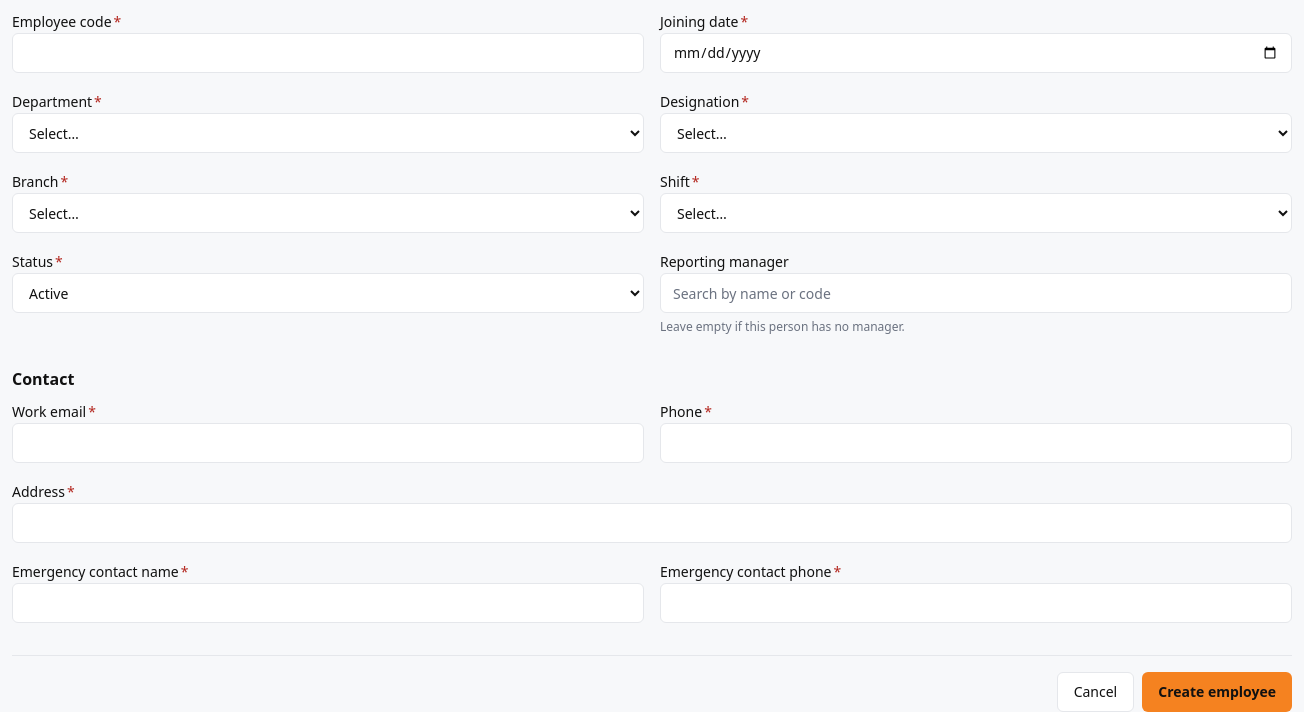
Scenario: EmployeeForm › shows validation messages and does not submit an empty form
(page scrolled)
Click the button "Create employee".
click(1217, 692)  # box [1142,672,1292,711]
(page scrolled)
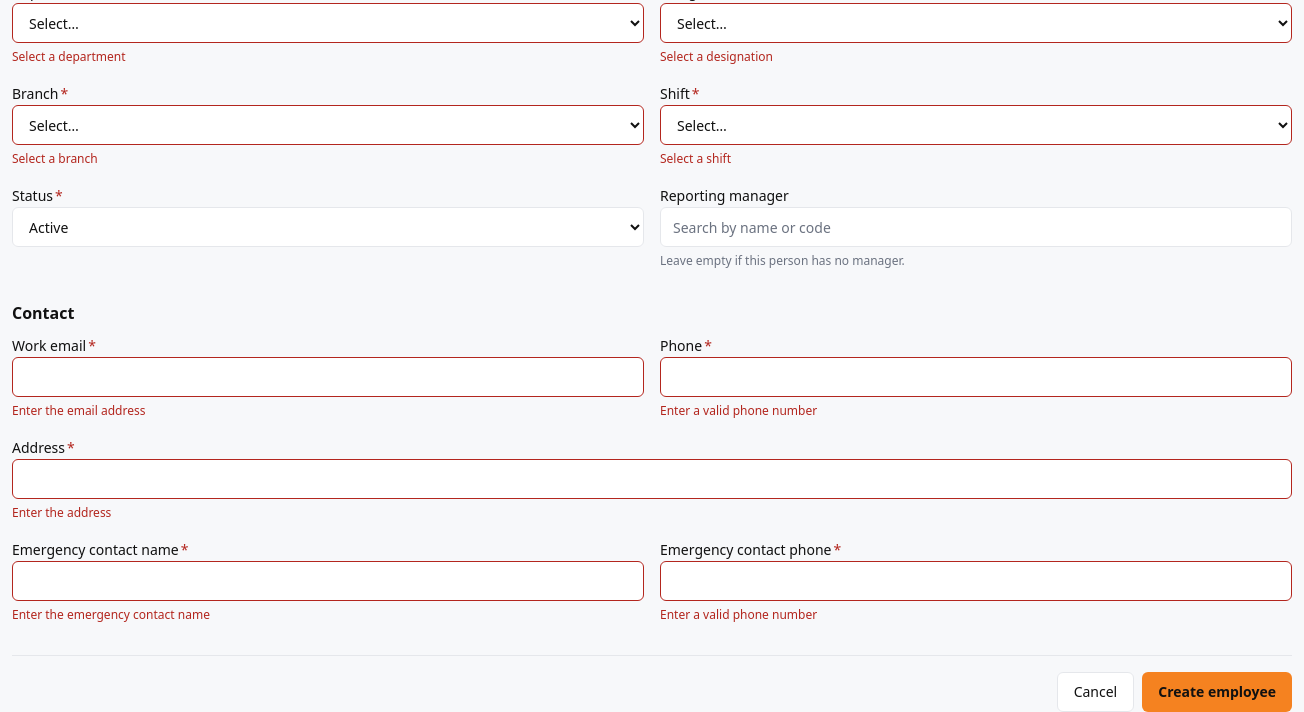
expect the text "Select a department" is shown: met, box [12,48,126,65]
expect the text "Enter the email address" is shown: met, box [12,402,145,419]
